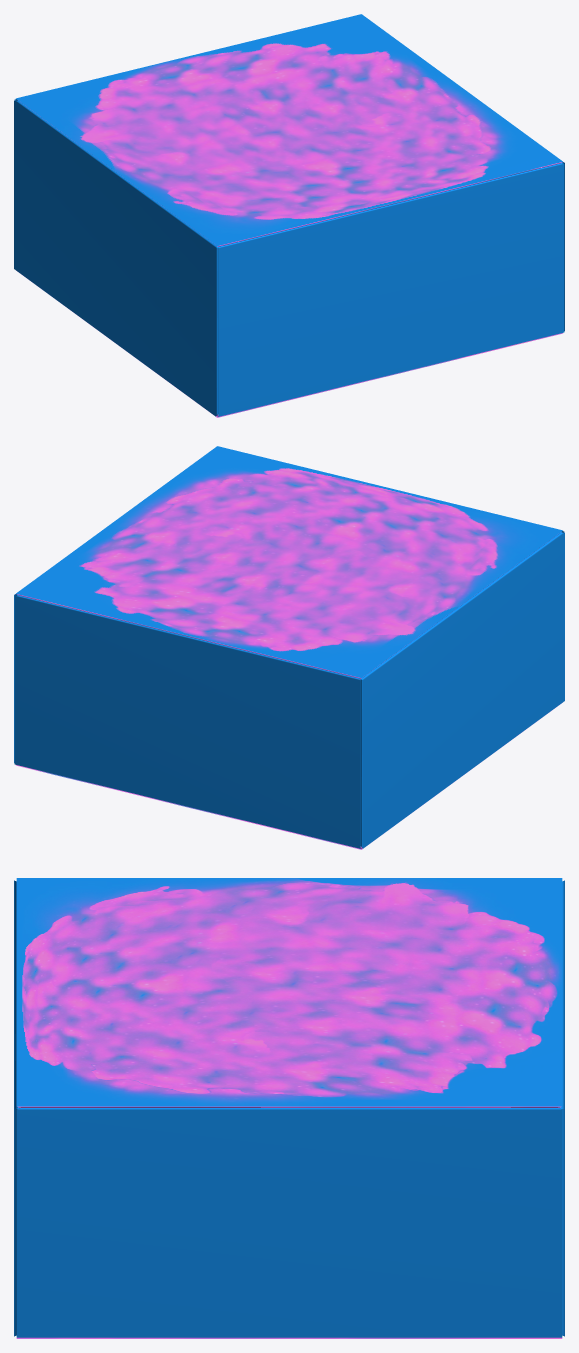
The model's file is PLF0110058.fbx.
The picture shows the model from 3 angles, top to bottom: view 1: azimuth 30°, elevation 25°; view 2: azimuth 150°, elevation 25°; view 3: azimuth 270°, elevation 25°; orthographic projection. The views are drawn at different scales.
Parts seen in each view (by area): view 1: smPLF0110058; view 2: smPLF0110058; view 3: smPLF0110058.
Part boxes in pixels (x1=…): smPLF0110058: x1=14, y1=14, x2=564, y2=417; smPLF0110058: x1=14, y1=446, x2=564, y2=849; smPLF0110058: x1=14, y1=878, x2=564, y2=1338.
Size of the model in its own units: 239 by 112 by 241.
1 material, 1 textured.
